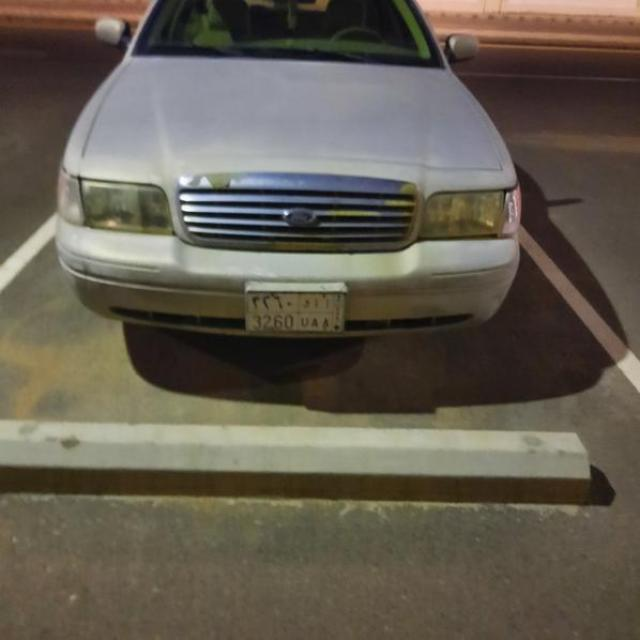license_plate: (248, 292, 344, 332)
